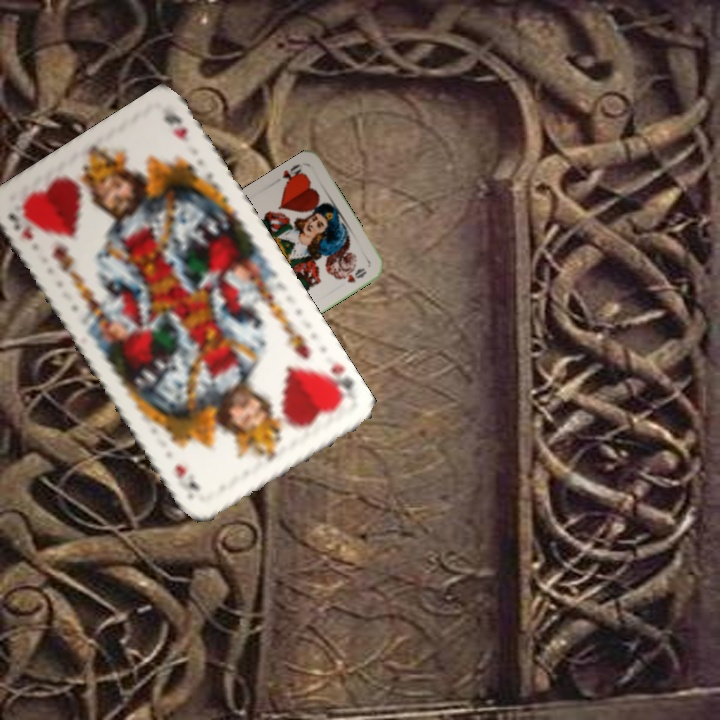HK: (315, 359, 357, 406), (3, 202, 36, 242)
HO: (278, 160, 307, 188)
